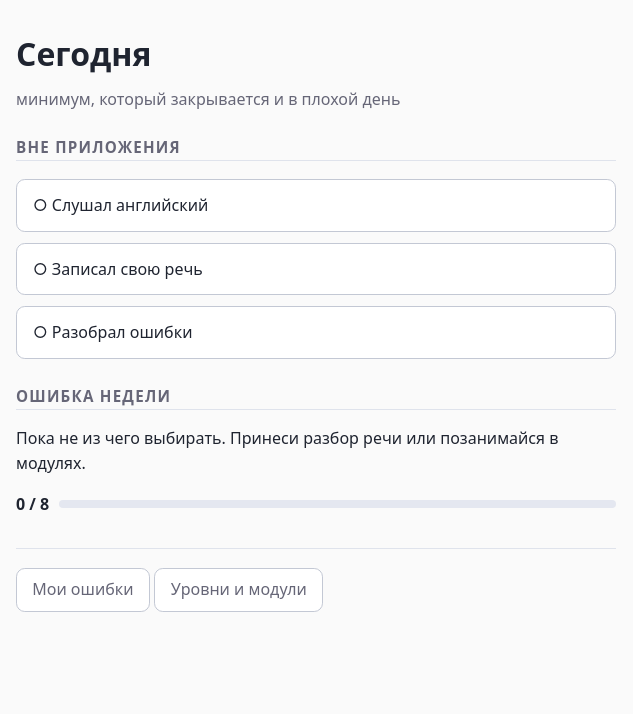
it: App › navigates level → module → training
What coordinates should you click on to do the following:
click the button "Уровни и модули"
I would click on:
 (239, 590)
Its box is [154,568,323,612].
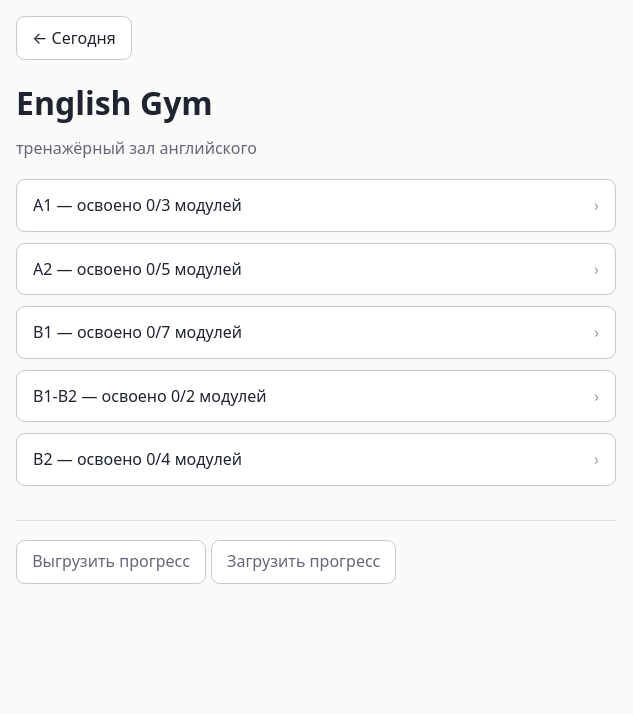
What coordinates should you click on to do the following:
click the button "B1 — освоено 0/7 модулей"
I would click on:
 (99, 332)
Its box is [16,306,616,359].
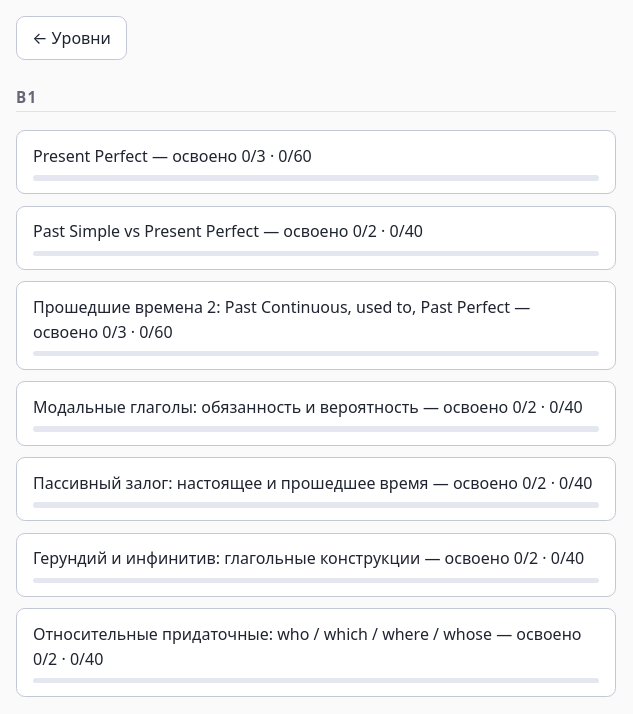
What coordinates should you click on to do the following:
click the button "Present Perfect — освоено 0/3 · 0/60"
I would click on:
 (90, 156)
Its box is [16,130,616,194].
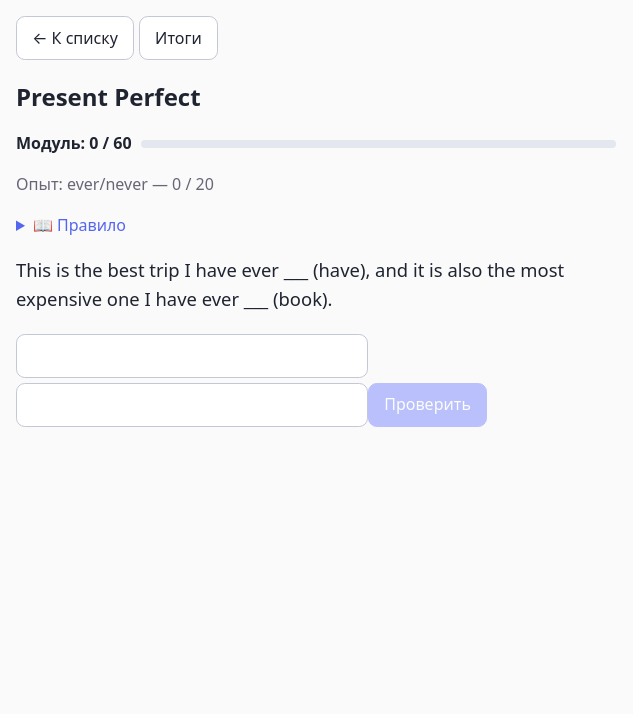
Now the text "Опыт: ever/never — 0 / 20" is shown, box [16,173,214,195]
